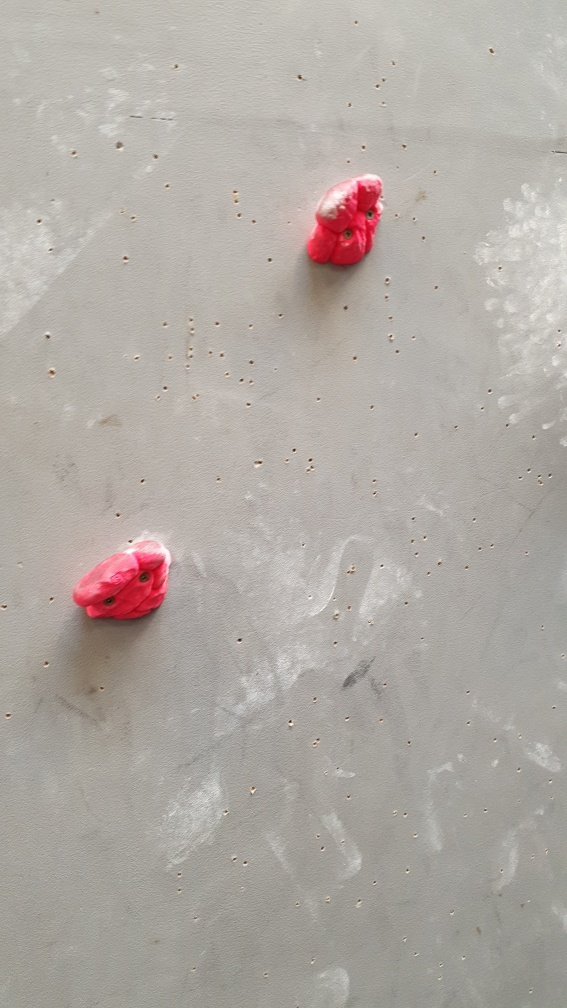Jug: (70, 536, 173, 624), (304, 167, 388, 270)
